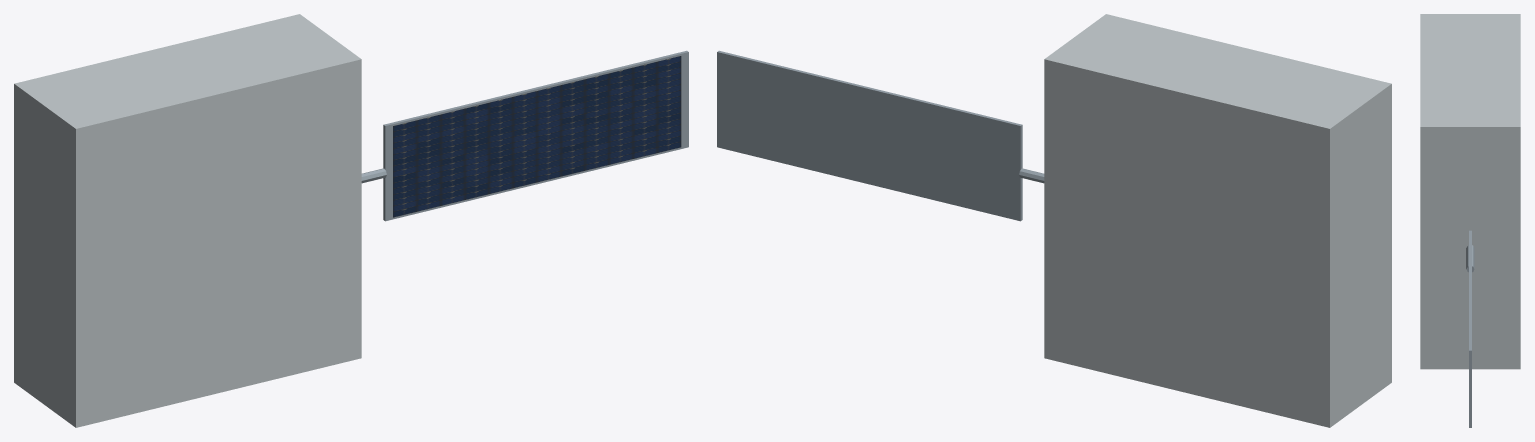
The model's file is ref-usa-339-54220.glb.
3 views of the same model, side by side, from view 1: azimuth 30°, elevation 25°; view 2: azimuth 150°, elevation 25°; view 3: azimuth 270°, elevation 25° (orthographic). The views are drawn at different scales.
Parts seen in each view (by area): view 1: Spacecraft body, Photovoltaic laminates, Array frame; view 2: Spacecraft body, Array frame; view 3: Spacecraft body, Array frame, Solar array drive.
Boxes of the visible parts, x1=… form: Spacecraft body: x1=14, y1=14, x2=361, y2=427; Photovoltaic laminates: x1=393, y1=56, x2=681, y2=217; Array frame: x1=383, y1=50, x2=688, y2=221; Spacecraft body: x1=1044, y1=14, x2=1391, y2=427; Array frame: x1=717, y1=50, x2=1022, y2=221; Spacecraft body: x1=1420, y1=14, x2=1520, y2=369; Array frame: x1=1469, y1=230, x2=1471, y2=427; Solar array drive: x1=1466, y1=245, x2=1474, y2=272.
Size of the model in its own units: 3.6 by 1.6 by 0.6.
3 materials, 1 textured.
